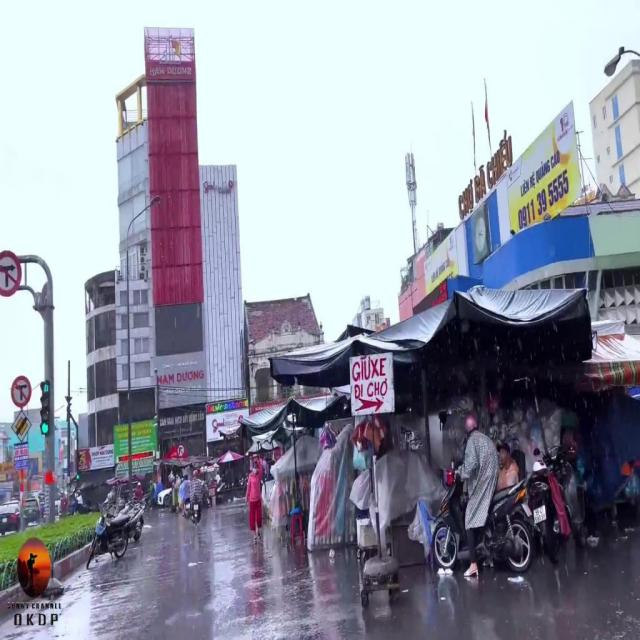cam_re_phai: (178, 443, 185, 458)
cam_re_trai_va_phai: (1, 250, 21, 297), (11, 375, 32, 408)
duong_het_uu_tien: (11, 410, 32, 442)
